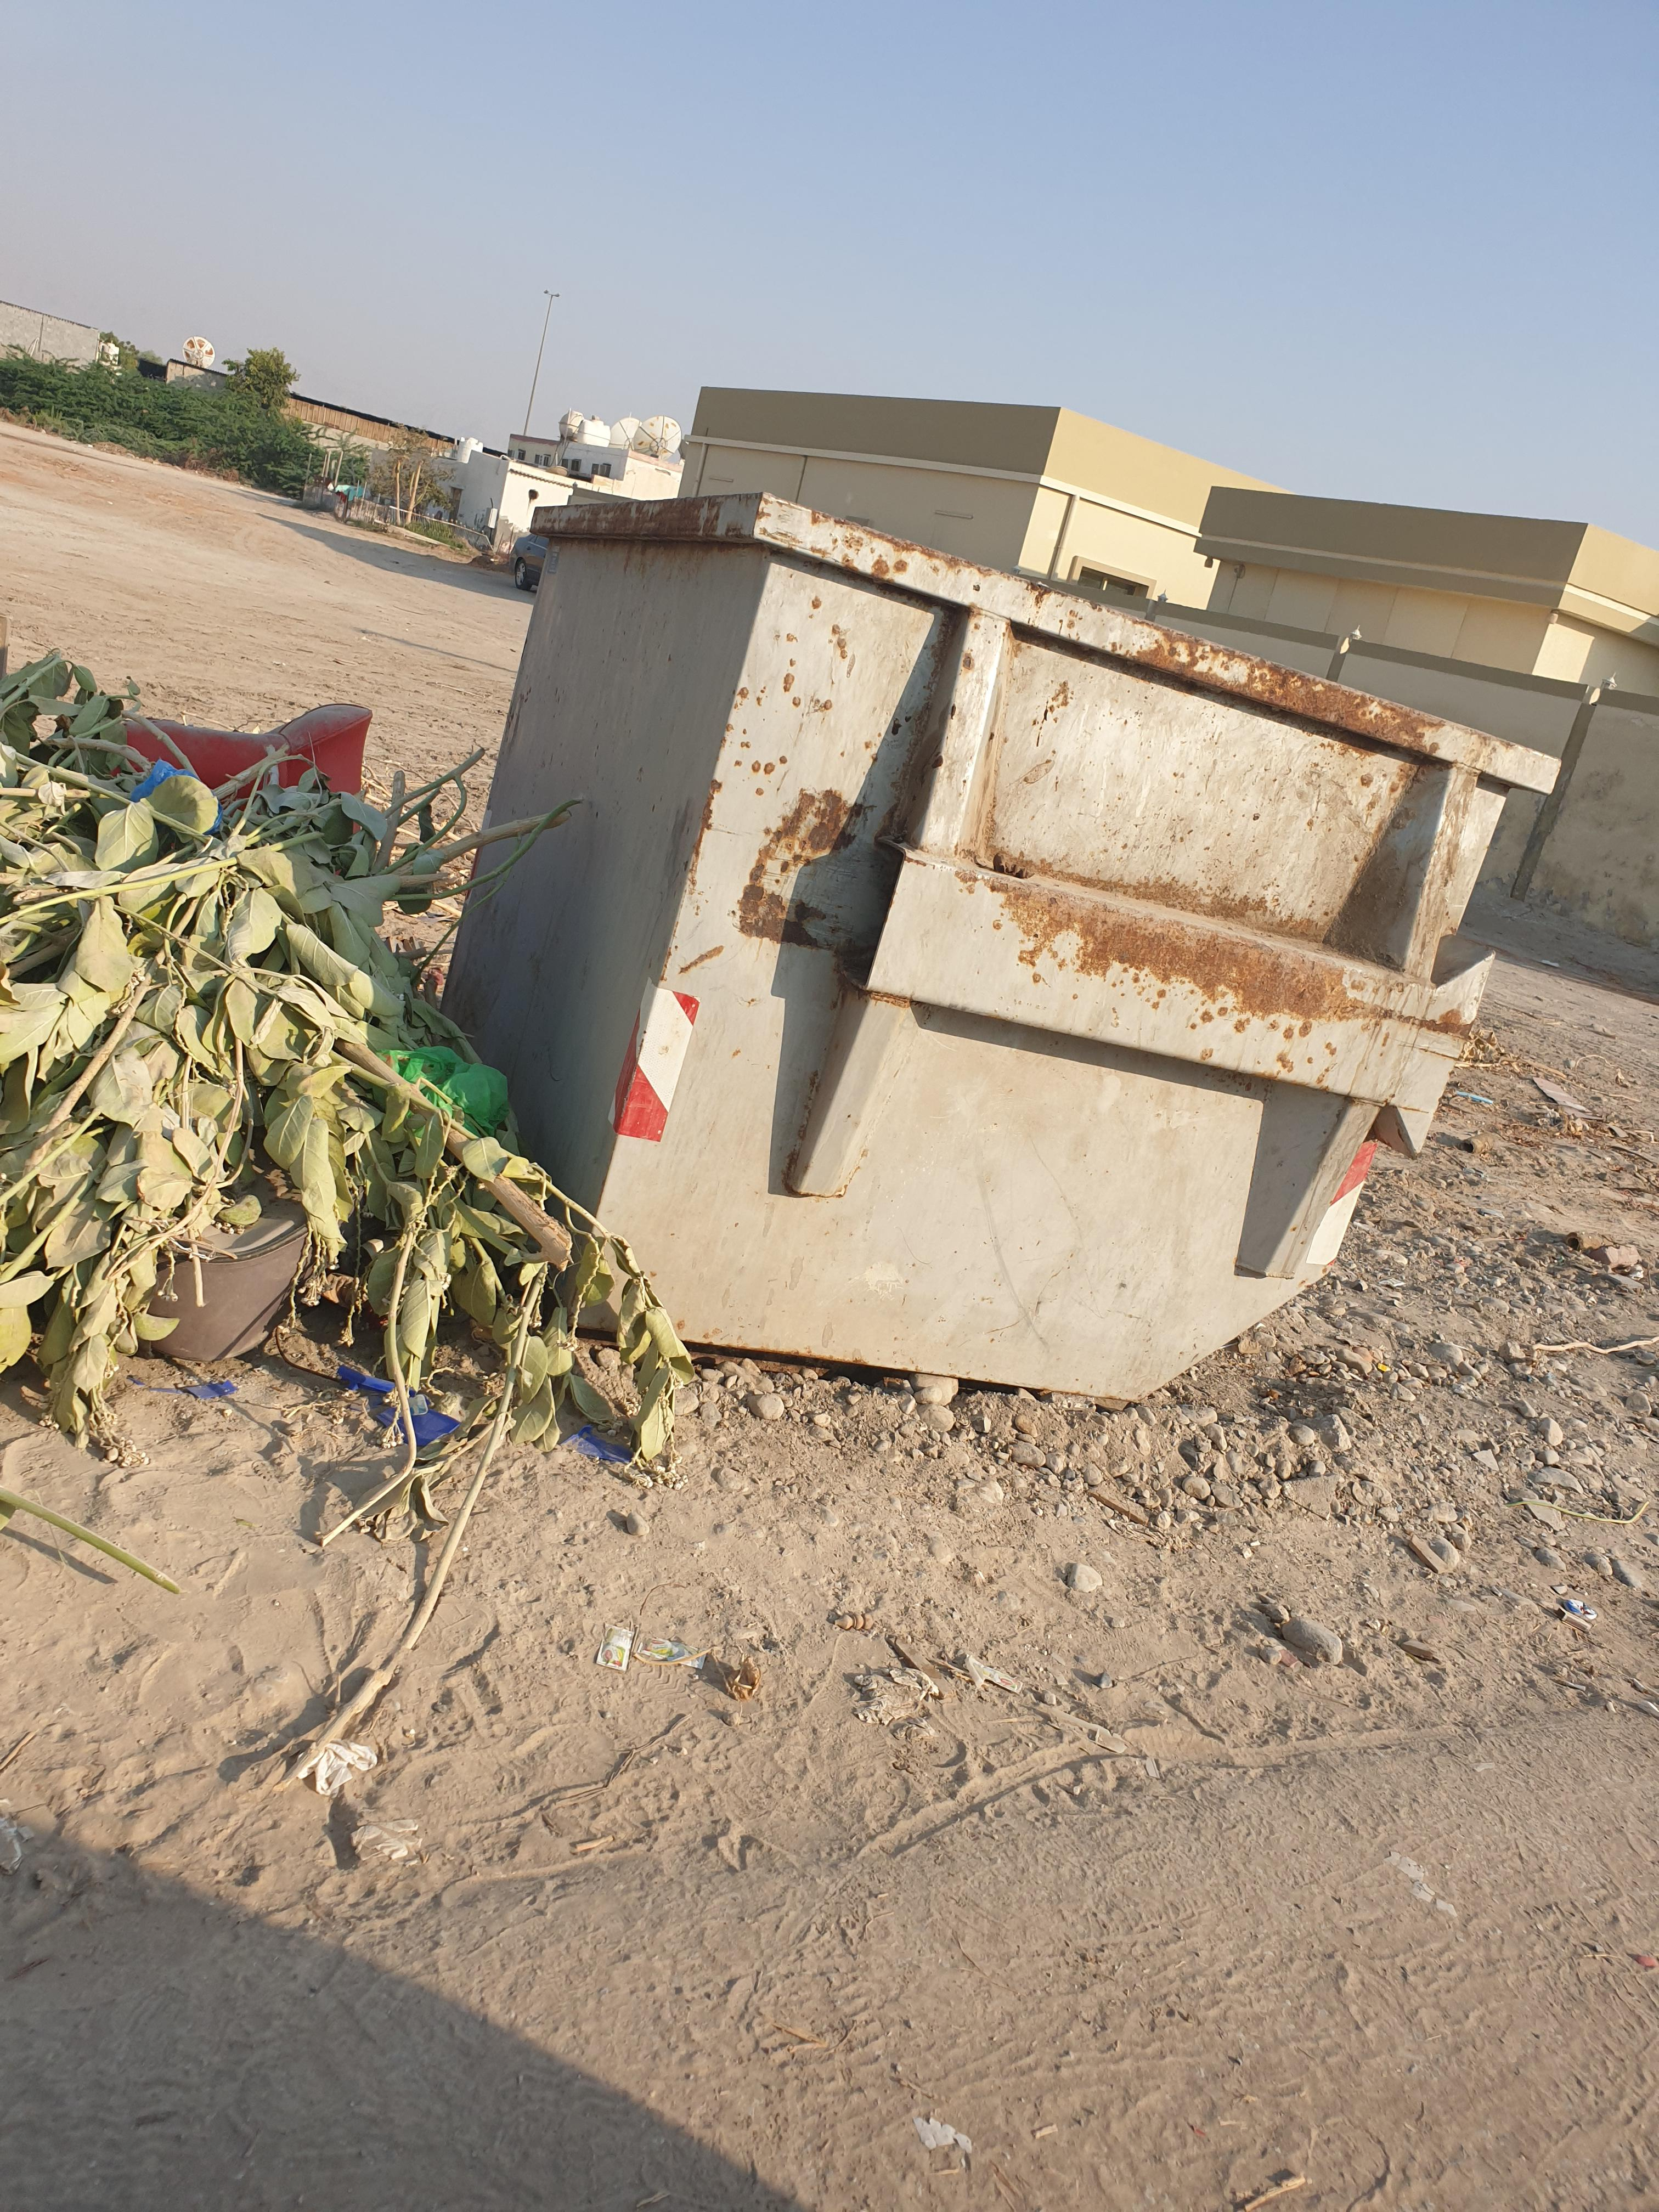fallen_trees: (9, 669, 533, 1447), (101, 867, 697, 1552)
